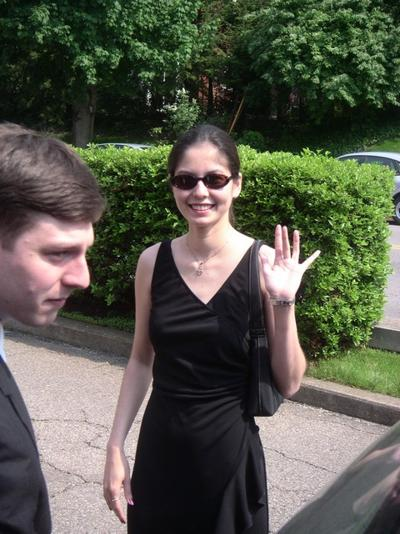person: (103, 124, 322, 533)
